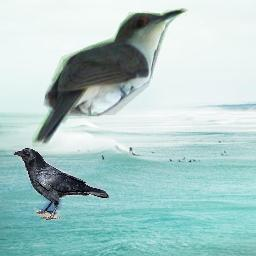Crow: (13, 148, 109, 220)
Cuckoo: (32, 8, 188, 148)
